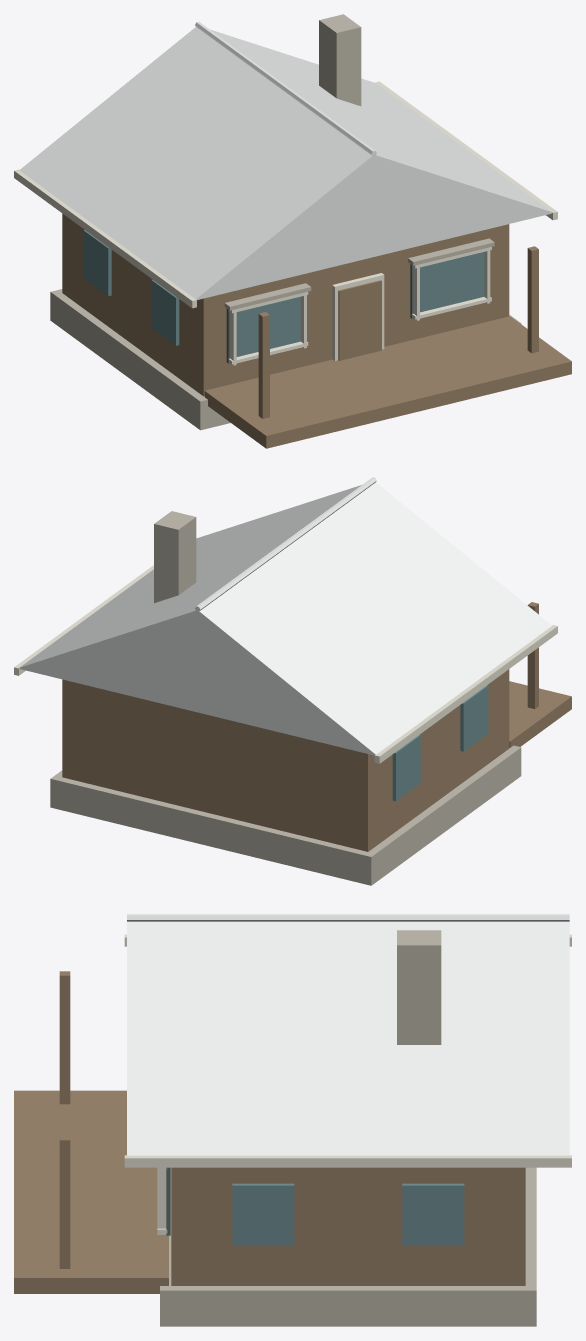
3 renders of one model, top to bottom at view 1: azimuth 30°, elevation 25°; view 2: azimuth 150°, elevation 25°; view 3: azimuth 270°, elevation 25°, orthographic. The views are drawn at different scales.
Bounding box in the file's own units: 11.96 × 8.5 × 12.6.
